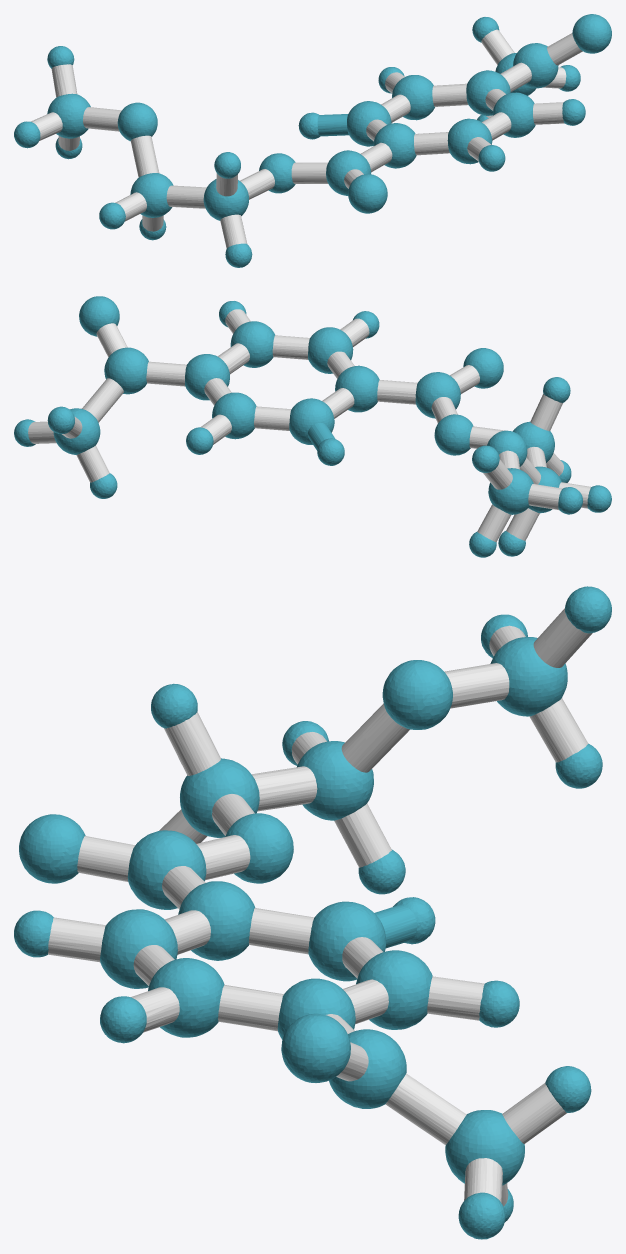
File: mainDraco.gltf
3 views of the same model, one above another, from view 1: azimuth 30°, elevation 25°; view 2: azimuth 150°, elevation 25°; view 3: azimuth 270°, elevation 25° (orthographic). The views are drawn at different scales.
Visible parts, largest first — view 1: MeshBody1 (1), MeshBody1 (29), MeshBody1 (37), MeshBody1 (33), MeshBody1 (32), MeshBody1 (22), MeshBody1 (38), MeshBody1 (39), MeshBody1 (25), MeshBody1 (23), MeshBody1 (28), MeshBody1 (27) (+28 smaller); view 2: MeshBody1 (1), MeshBody1 (9), MeshBody1 (32), MeshBody1 (29), MeshBody1 (33), MeshBody1 (37), MeshBody1 (27), MeshBody1 (23), MeshBody1 (28), MeshBody1 (34), MeshBody1 (38), MeshBody1 (+31 smaller); view 3: MeshBody1 (1), MeshBody1 (24), MeshBody1 (37), MeshBody1 (33), MeshBody1 (29), MeshBody1 (25), MeshBody1 (39), MeshBody1 (38), MeshBody1 (34), MeshBody1 (23), MeshBody1 (28), MeshBody1 (36) (+31 smaller).
Boxes of the visible parts, x1,y1,x2,y2 form: MeshBody1 (1): (361, 62, 564, 171); MeshBody1 (29): (373, 123, 416, 168); MeshBody1 (37): (392, 75, 434, 120); MeshBody1 (33): (492, 92, 535, 137); MeshBody1 (32): (513, 43, 558, 88); MeshBody1 (22): (348, 174, 387, 213); MeshBody1 (38): (47, 93, 90, 138); MeshBody1 (39): (130, 173, 173, 217); MeshBody1 (25): (572, 14, 611, 53); MeshBody1 (23): (447, 118, 492, 164); MeshBody1 (28): (347, 101, 391, 146); MeshBody1 (27): (466, 70, 510, 115); MeshBody1 (1): (146, 309, 417, 430); MeshBody1 (9): (76, 378, 123, 482); MeshBody1 (32): (104, 347, 148, 394); MeshBody1 (29): (335, 365, 379, 412); MeshBody1 (33): (230, 321, 274, 367); MeshBody1 (37): (212, 392, 256, 439); MeshBody1 (27): (185, 354, 229, 400); MeshBody1 (23): (308, 327, 353, 373); MeshBody1 (28): (289, 398, 334, 444); MeshBody1 (34): (415, 372, 460, 418); MeshBody1 (38): (488, 468, 533, 514); MeshBody1: (434, 414, 473, 455); MeshBody1 (1): (131, 866, 388, 1033); MeshBody1 (24): (382, 660, 452, 729); MeshBody1 (37): (356, 950, 432, 1029); MeshBody1 (33): (148, 958, 224, 1037); MeshBody1 (29): (178, 881, 255, 960); MeshBody1 (25): (281, 1013, 350, 1082); MeshBody1 (39): (297, 741, 373, 820); MeshBody1 (38): (490, 637, 567, 716); MeshBody1 (34): (127, 830, 206, 909); MeshBody1 (23): (100, 909, 177, 988); MeshBody1 (28): (308, 901, 385, 981); MeshBody1 (36): (445, 1110, 524, 1185).
Bounding box in the file's own units: 6.01 × 1.73 × 3.19.
